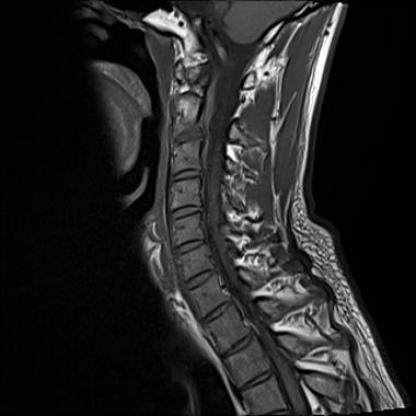Disc Protrusionrotation: (196, 305, 239, 320), (168, 168, 205, 184)
Osteophytesrotation: (168, 168, 205, 184)
